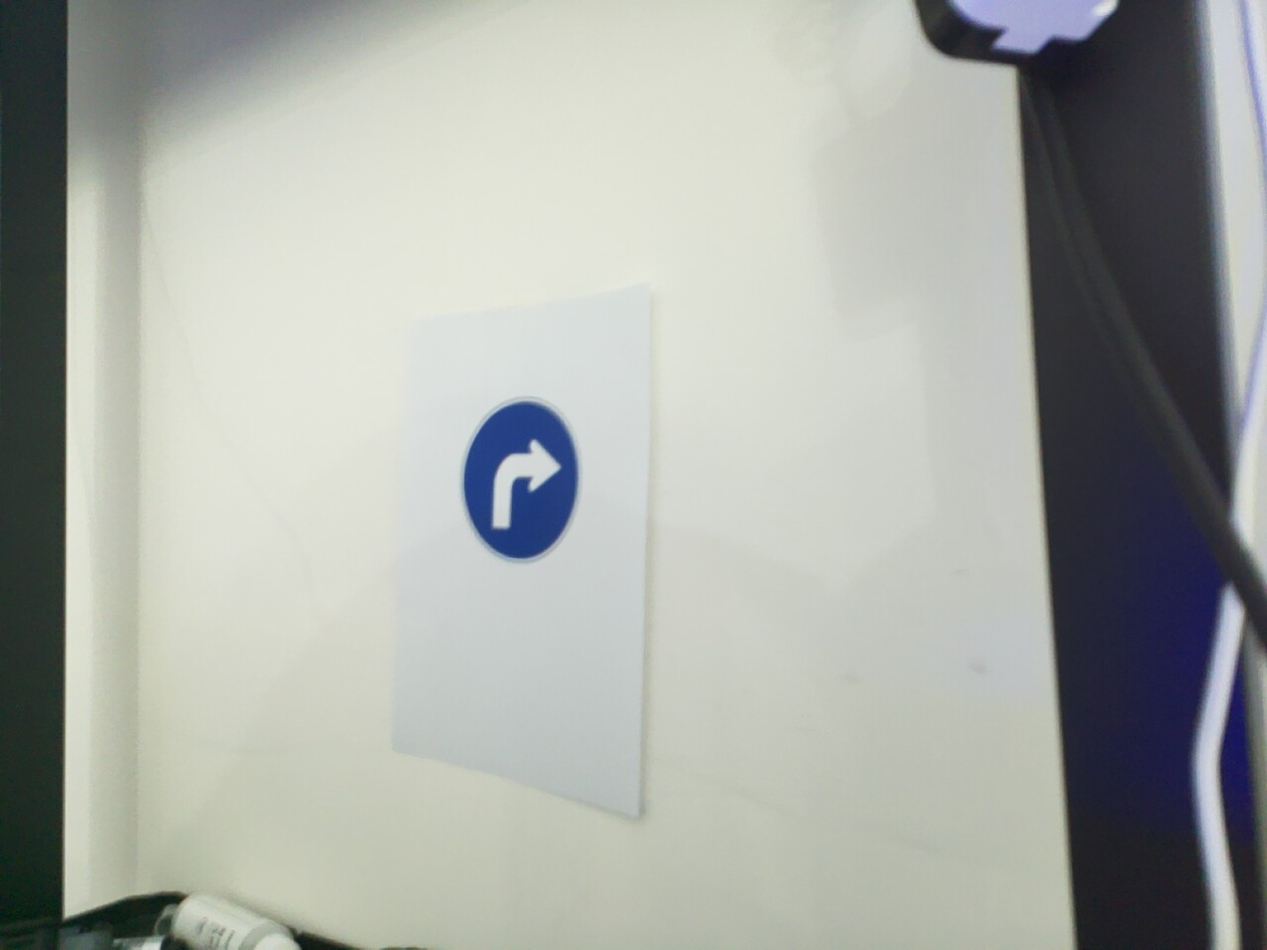right_turn: (457, 394, 585, 566)
